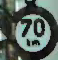Speed limit: (5, 2, 56, 56)
